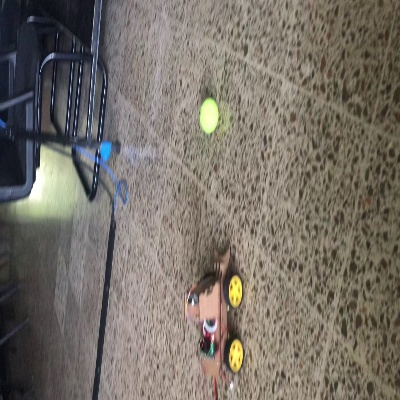Ball: (199, 99, 219, 133)
Robot: (184, 245, 245, 381)
